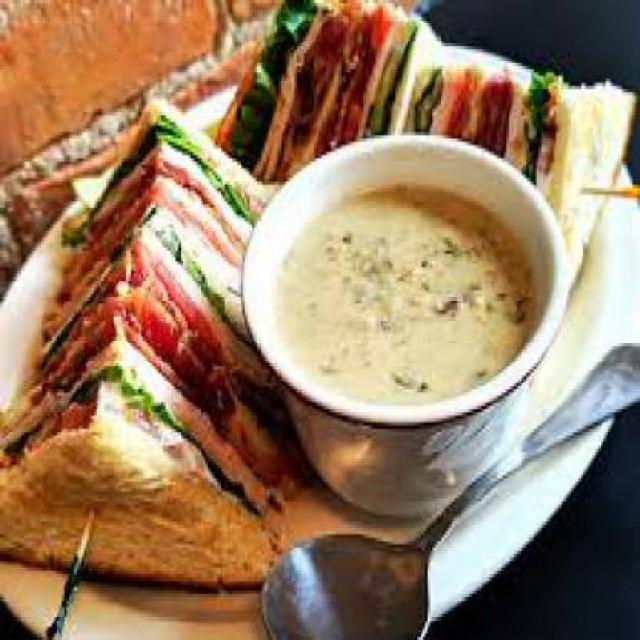clam chowder: (253, 138, 542, 482)
club sandwich: (9, 3, 628, 600)
